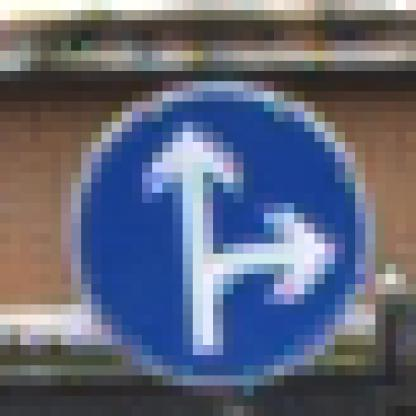Straight or Right: (52, 62, 356, 366)
